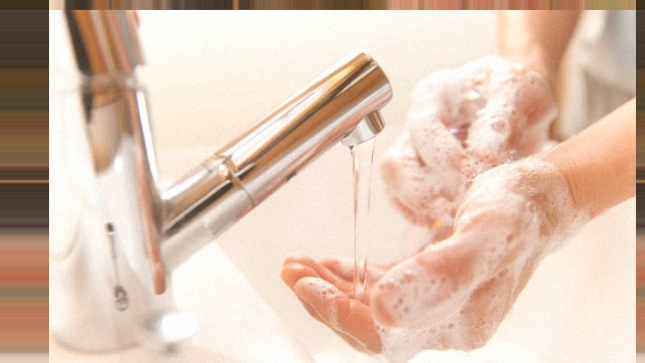washing hand: (132, 25, 580, 362)
